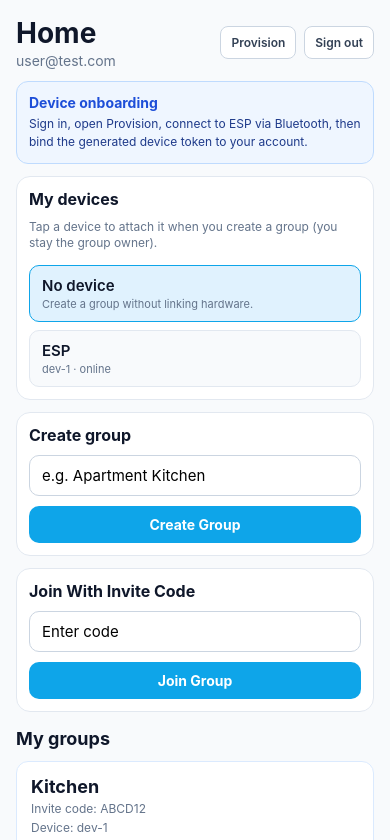
Test: DashboardScreen › validates join code and prevents duplicate membership
The image size is (390, 840).
Expected: the text "Kitchen" is shown, [31, 776, 99, 797]
Click the text "Join Group".
click(195, 680)  # box [158, 672, 232, 689]
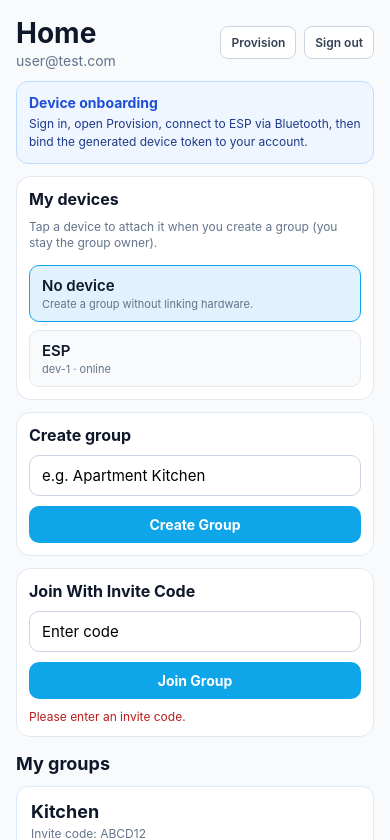
Result: the text "Please enter an invite code." is shown at [29, 709, 186, 724]
Type "abcd12" into the field with placeholder "Enter code".
click(195, 632); type("abcd12")  # box [29, 611, 361, 652]
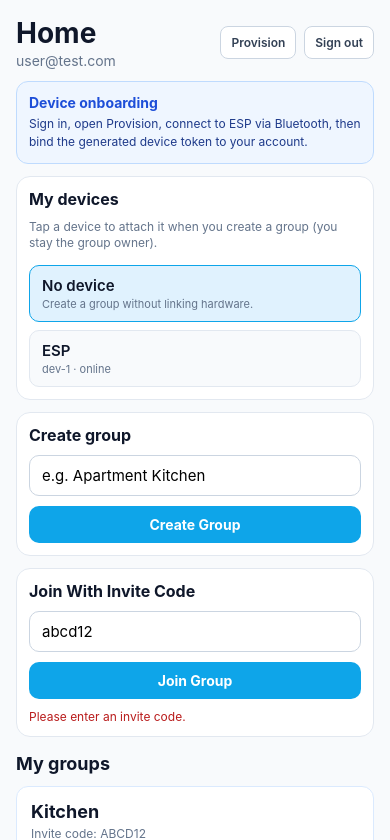
Click the text "Join Group".
click(195, 680)  # box [158, 672, 232, 689]
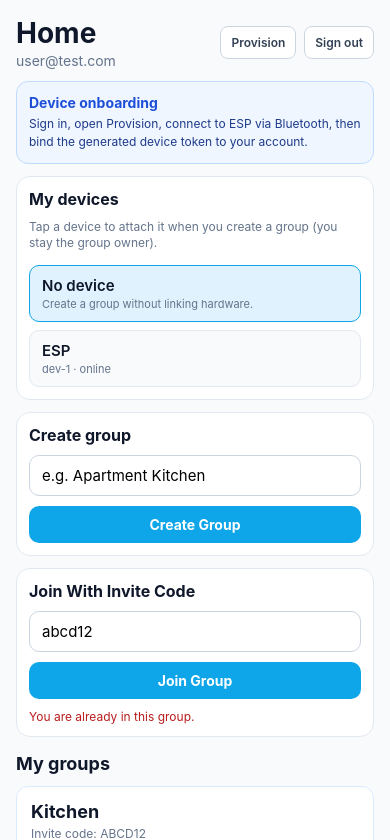
Result: the text "You are already in this group." is shown at [29, 709, 194, 724]
